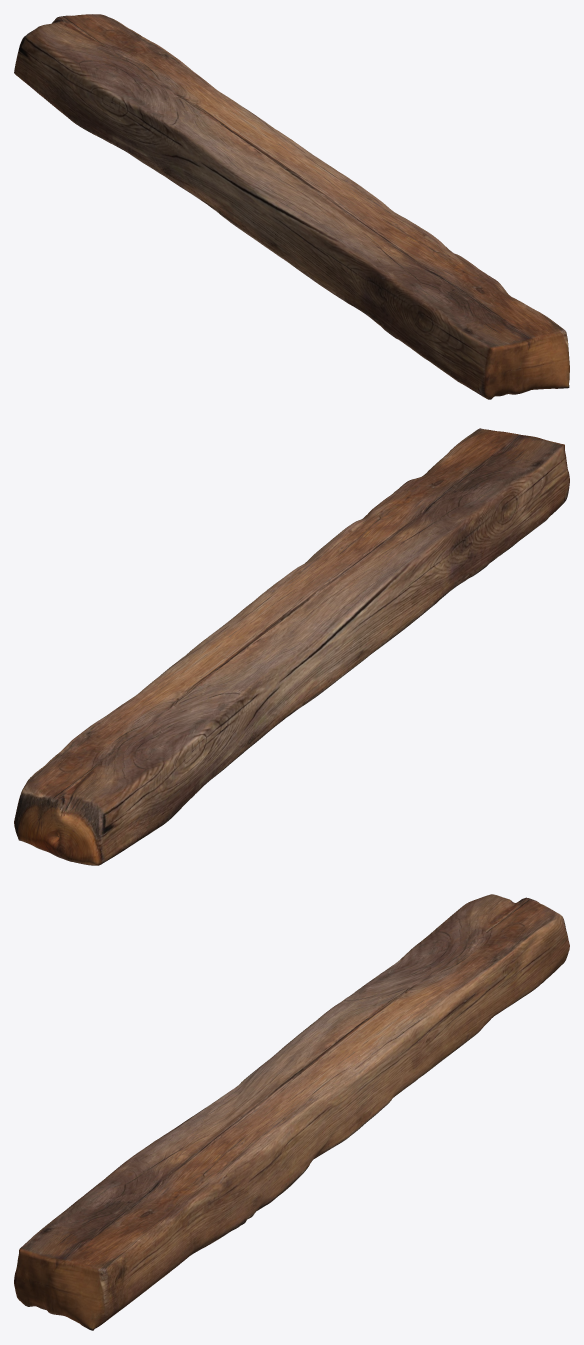
Rendered from WoodPlank2.fbx.
3 renders of one model, top to bottom at view 1: azimuth 30°, elevation 25°; view 2: azimuth 150°, elevation 25°; view 3: azimuth 330°, elevation 25°, orthographic. The views are drawn at different scales.
Visible parts, largest first — view 1: woodenp3; view 2: woodenp3; view 3: woodenp3.
Boxes of the visible parts, x1,y1,x2,y2 form: woodenp3: [14, 14, 569, 399]; woodenp3: [14, 428, 569, 865]; woodenp3: [14, 894, 569, 1330].
Bounding box in the file's own units: 39.37 × 21.09 × 293.
1 material, 1 textured.
